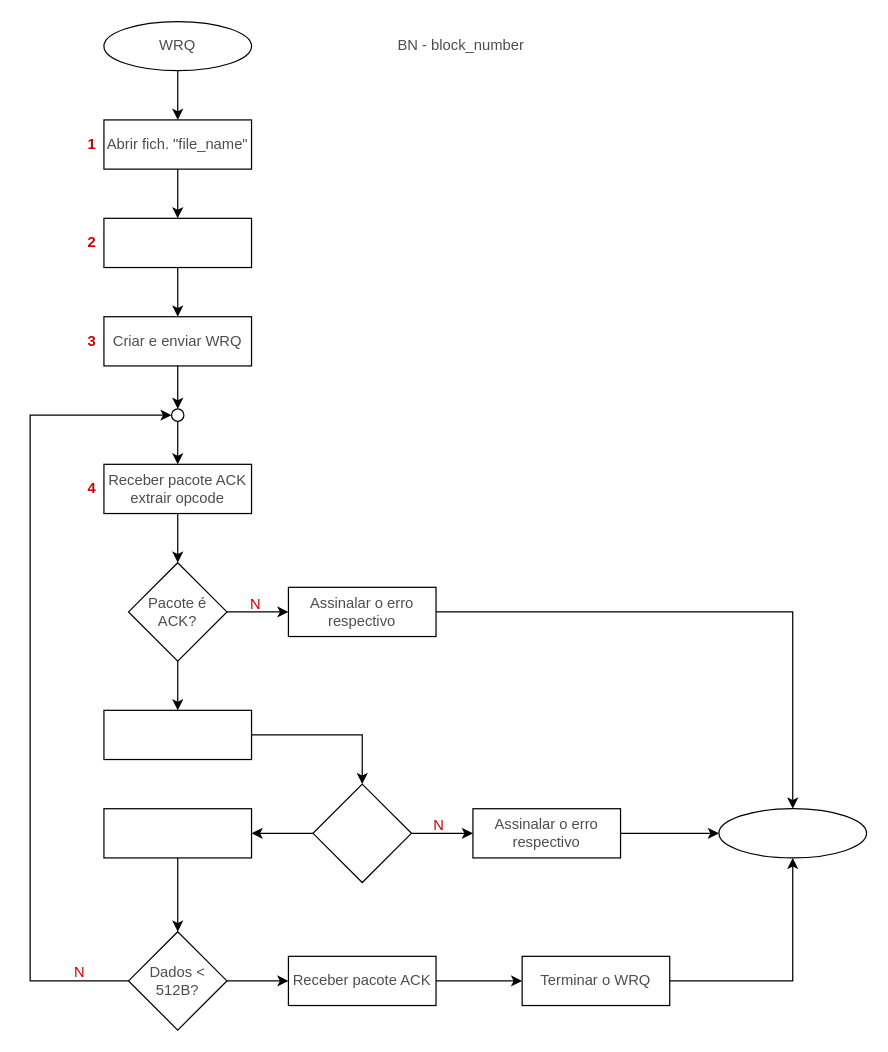
This 888x1052 diagram has some shape labels left out. Here are the shapes that lost their labels. From the top down, the box of each, then its label:
(103, 217, 252, 268): Criar sock DGRAM
(103, 709, 252, 760): Verificar o BN
(103, 807, 252, 858): Construir e enviar Pacote
(312, 783, 411, 883): BN é o esperado?
(718, 807, 867, 858): FIM
